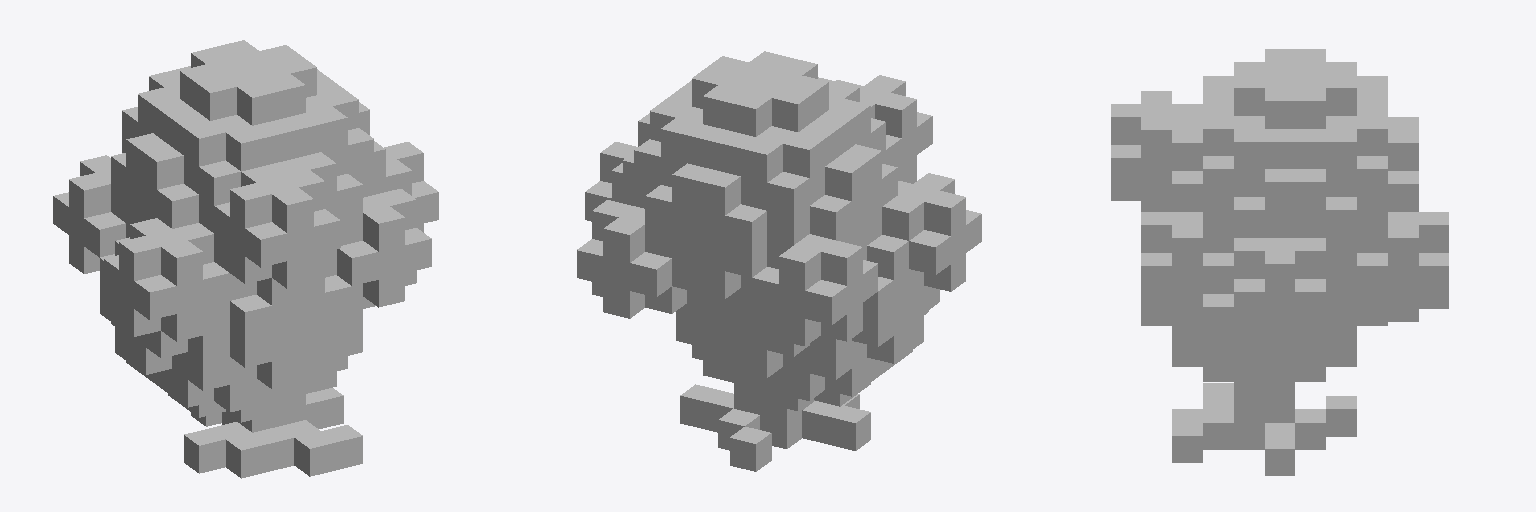
File: bush.obj
3 renders of one model, left to right at view 1: azimuth 30°, elevation 25°; view 2: azimuth 150°, elevation 25°; view 3: azimuth 270°, elevation 25°, orthographic.
Parts seen in each view (by area): view 1: object 1; view 2: object 1; view 3: object 1.
Boxes of the visible parts, x1,y1,x2,y2 form: object 1: [53, 40, 438, 478]; object 1: [577, 51, 981, 471]; object 1: [1111, 49, 1448, 475].
Size of the model in its own units: 1.2 by 1.3 by 1.1.